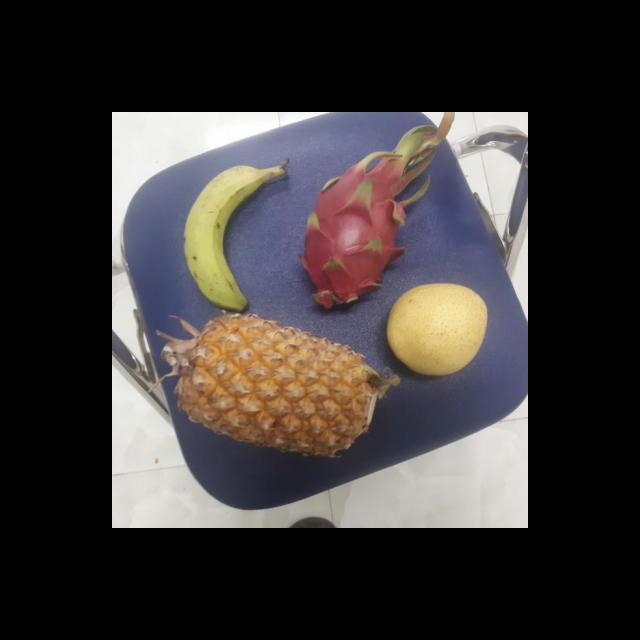banana: (180, 166, 282, 308)
pear: (386, 276, 488, 378)
pineapple: (160, 310, 384, 450)
pitaya: (296, 164, 414, 308)
